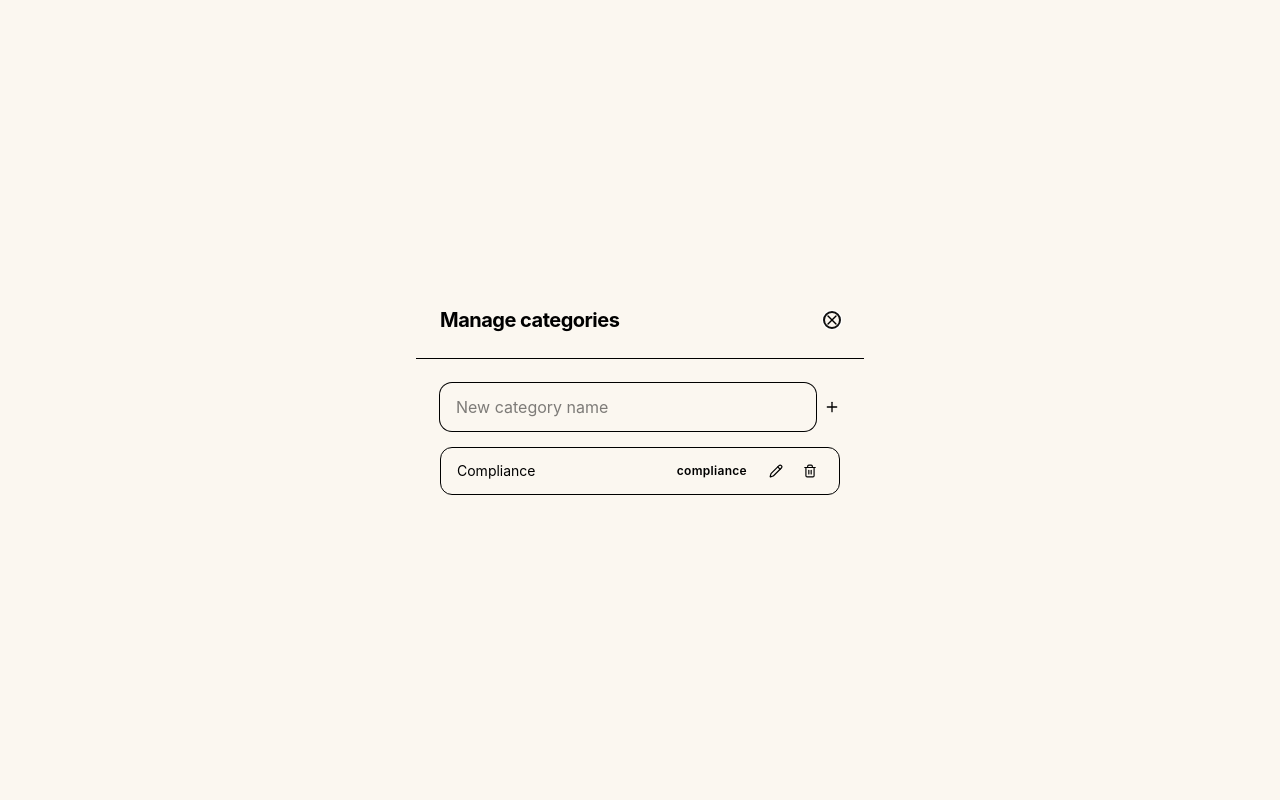
Scenario: CategoriesDialog › adds a category (by Enter), trimmed, then reloads and tells the page
Expected: the text "Compliance" is shown, [457,462,536,478]
Press Enter in the field labelled "New category name", box [440,382,816,430]
Type "  ISO 17025 " into the field labelled "New category name" at x=628, y=406, box [440,382,816,430]
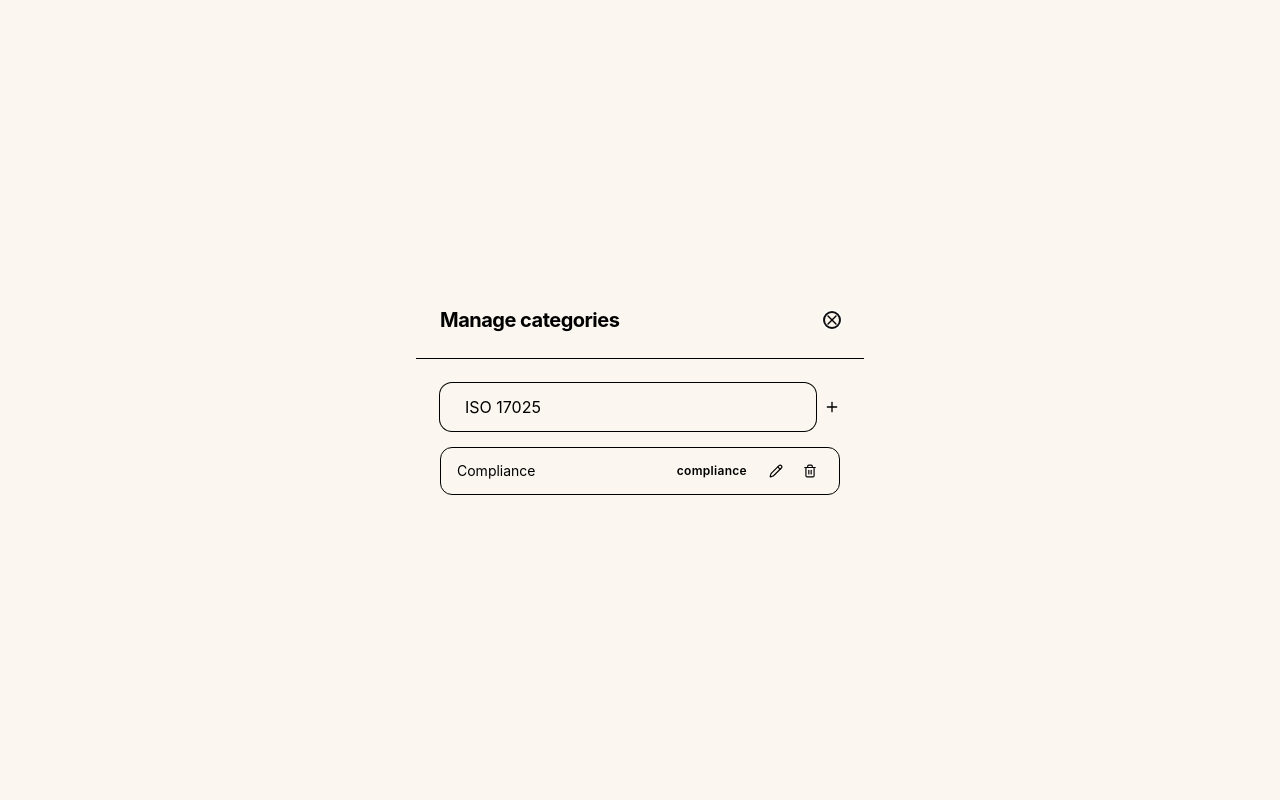
Press Enter in the field named "New category name", box [440,382,816,430]
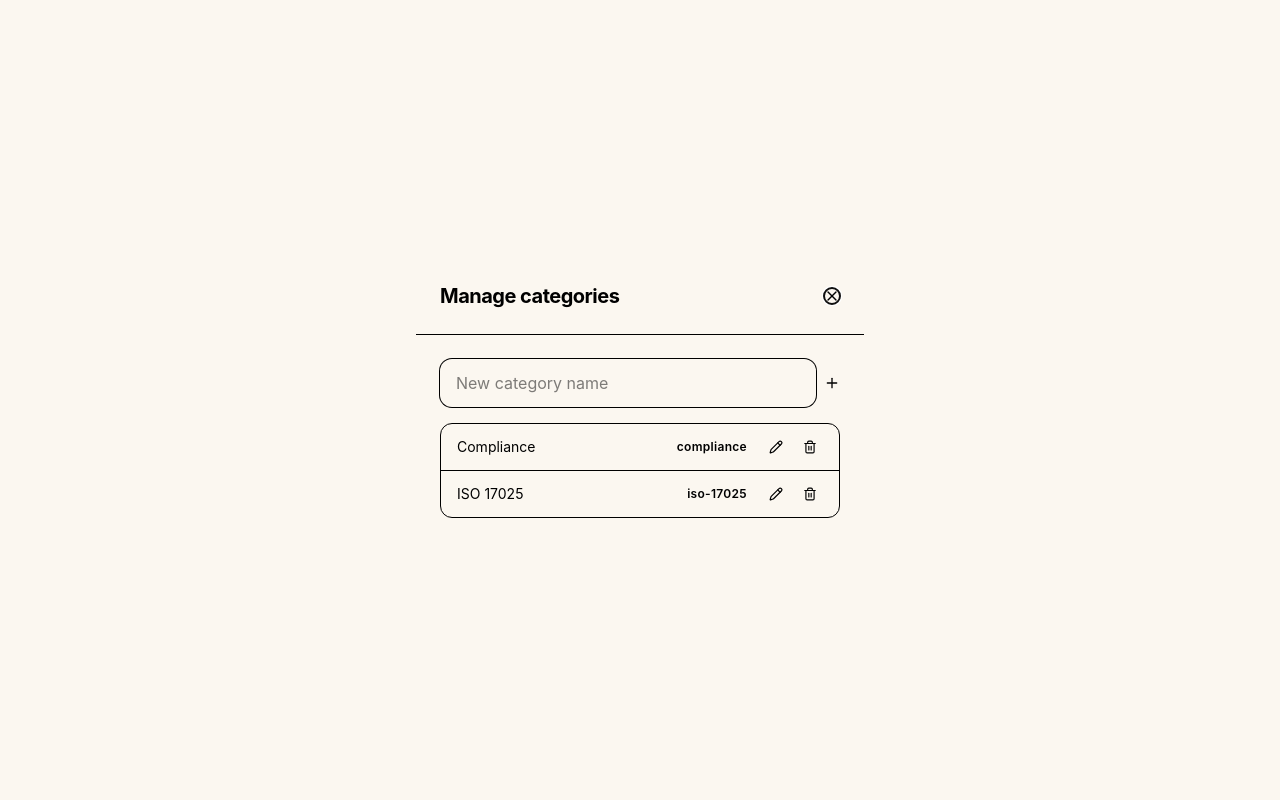
Result: the text "ISO 17025" is shown at [457,485,524,502]
Result: the field labelled "New category name" is empty at [440,359,816,407]
